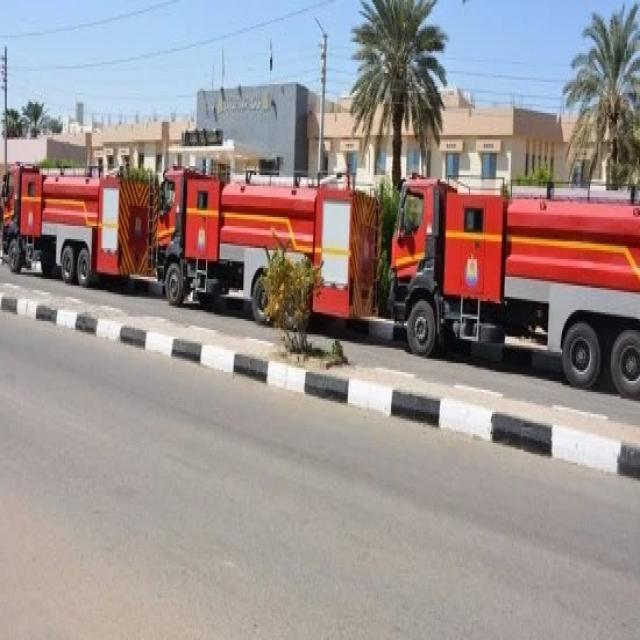Fire-truck: (388, 139, 640, 446), (143, 142, 376, 345), (0, 120, 141, 294)
